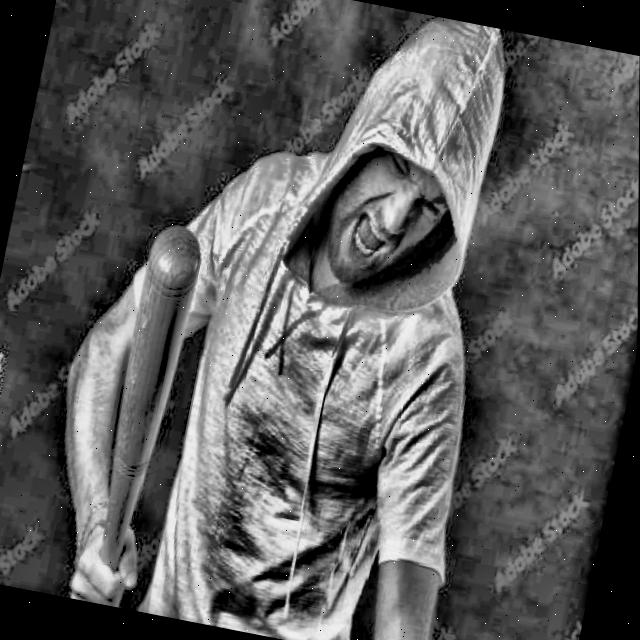tongkat pemukul: (68, 220, 208, 609)
